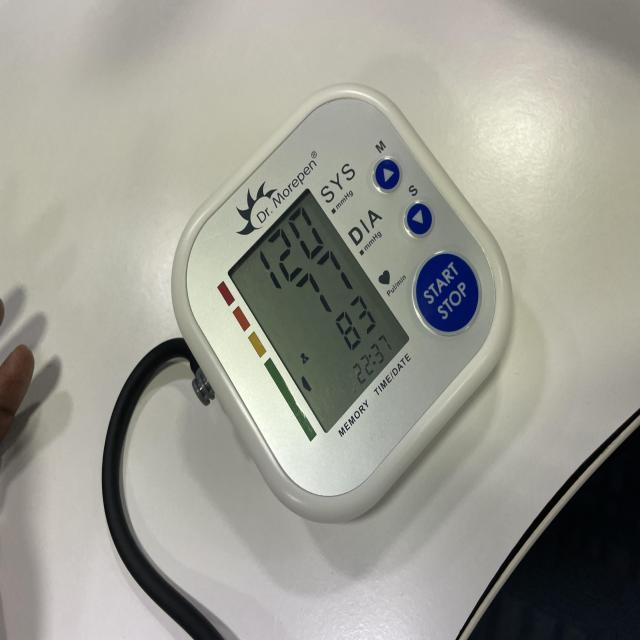bp: (170, 86, 511, 524)
